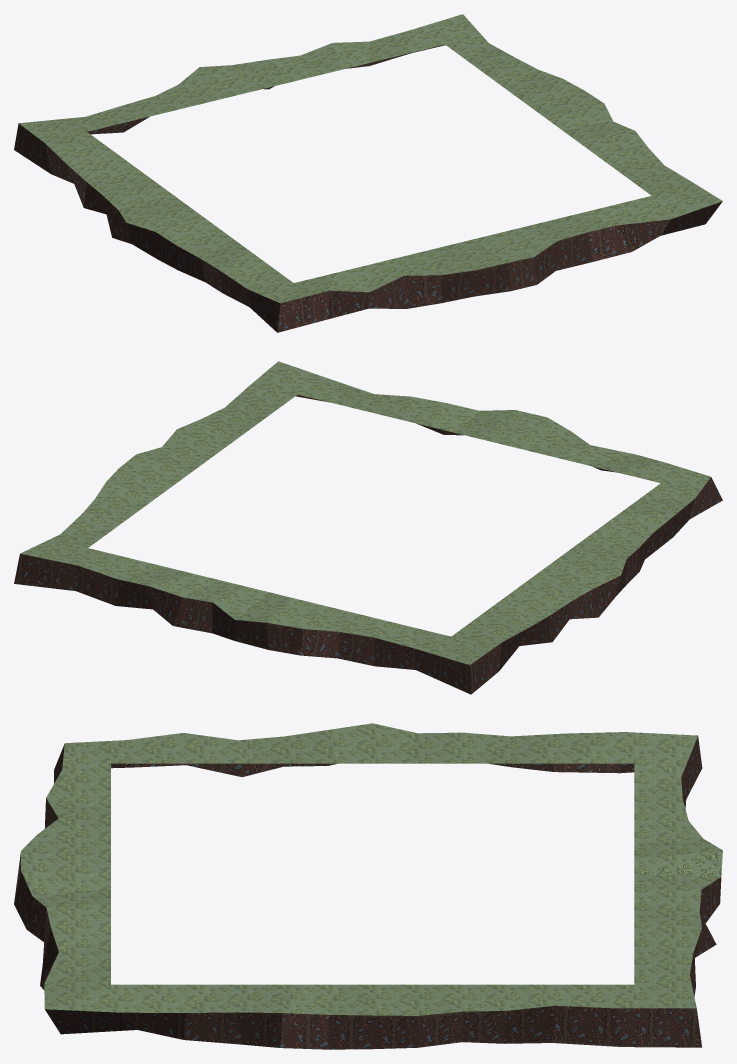
File: entorno.glb
3 views of the same model, one above another, from view 1: azimuth 30°, elevation 25°; view 2: azimuth 150°, elevation 25°; view 3: azimuth 270°, elevation 25° (orthographic). The views are drawn at different scales.
Parts seen in each view (by area): view 1: bosque_entorno; view 2: bosque_entorno; view 3: bosque_entorno.
Boxes of the visible parts, x1=… form: bosque_entorno: x1=14, y1=14, x2=722, y2=332; bosque_entorno: x1=14, y1=361, x2=722, y2=694; bosque_entorno: x1=14, y1=723, x2=722, y2=1049.
Size of the model in its own units: 16.31 by 1.06 by 16.52.
2 materials, 2 textured.
